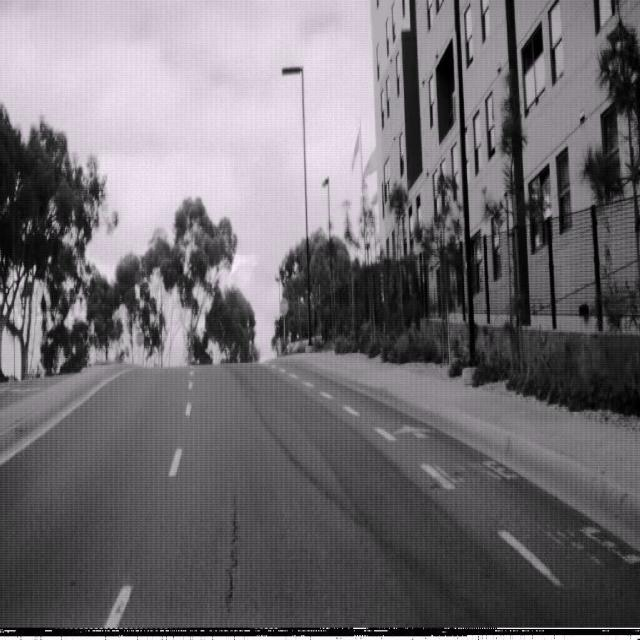stop: (279, 297, 288, 316), (135, 330, 144, 347)
